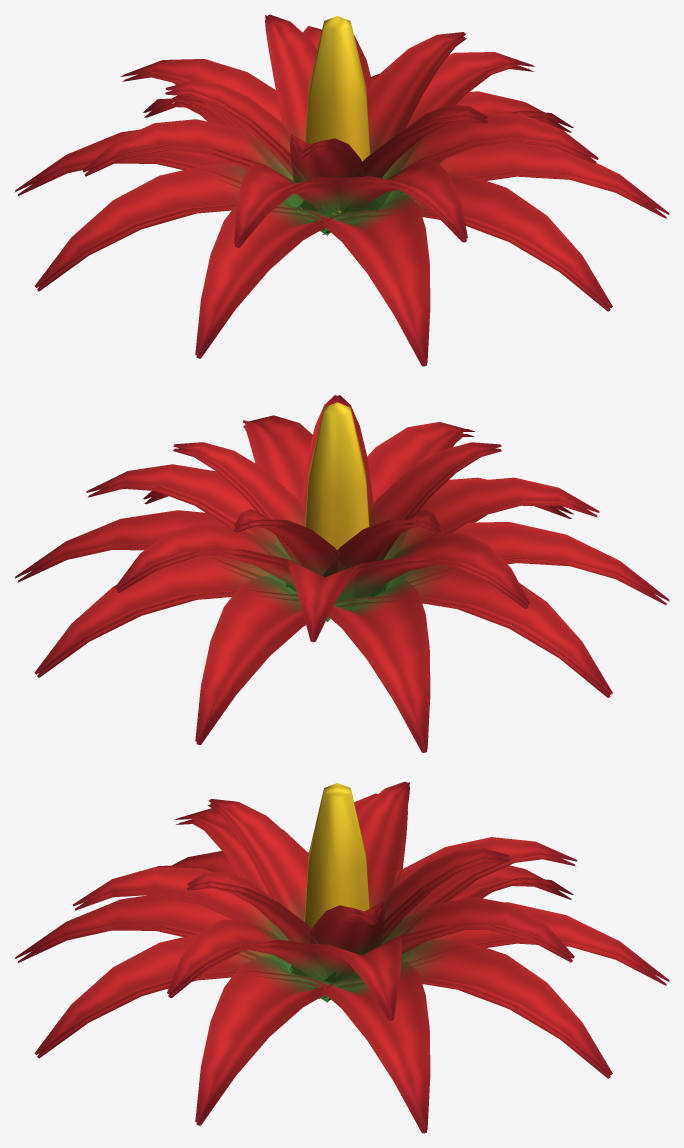
Rendered from Kit_Bromeliad.fbx.
3 renders of one model, top to bottom at view 1: azimuth 30°, elevation 25°; view 2: azimuth 150°, elevation 25°; view 3: azimuth 270°, elevation 25°, orthographic.
Parts seen in each view (by area): view 1: Kit_Bromeliad; view 2: Kit_Bromeliad; view 3: Kit_Bromeliad.
Boxes of the visible parts, x1,y1,x2,y2 form: Kit_Bromeliad: [14, 14, 669, 366]; Kit_Bromeliad: [14, 395, 669, 752]; Kit_Bromeliad: [15, 781, 669, 1133].
Bounding box in the file's own units: 5.13 × 1.87 × 5.14.
1 material, 1 textured.
